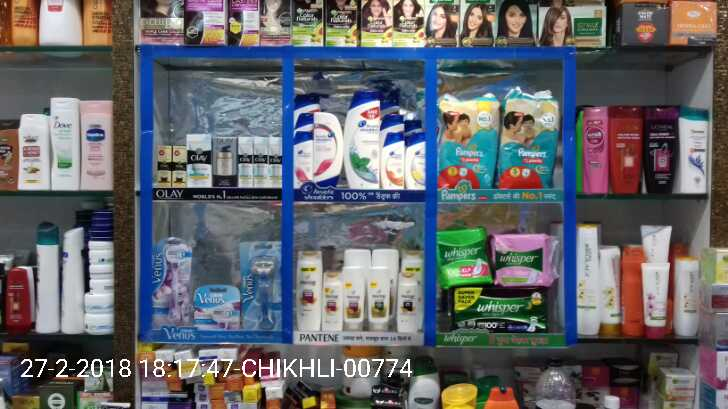venus: (235, 241, 283, 329), (152, 236, 191, 324), (197, 289, 233, 328)
